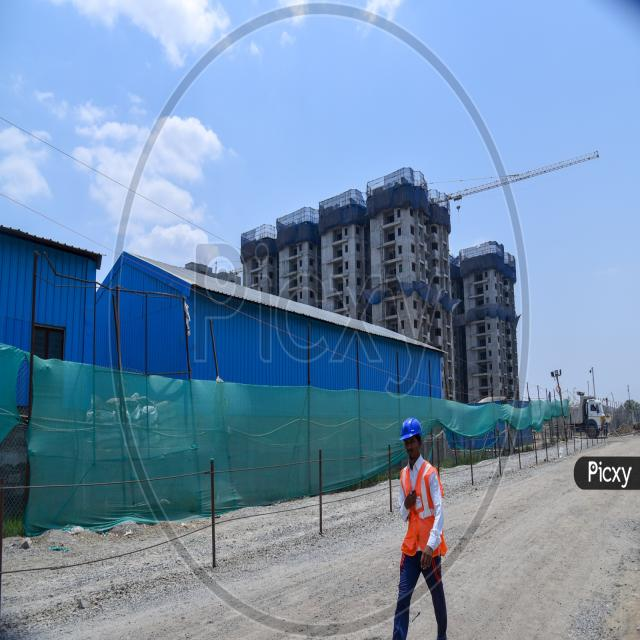helmet: (398, 414, 426, 446)
vest: (396, 460, 450, 566)
